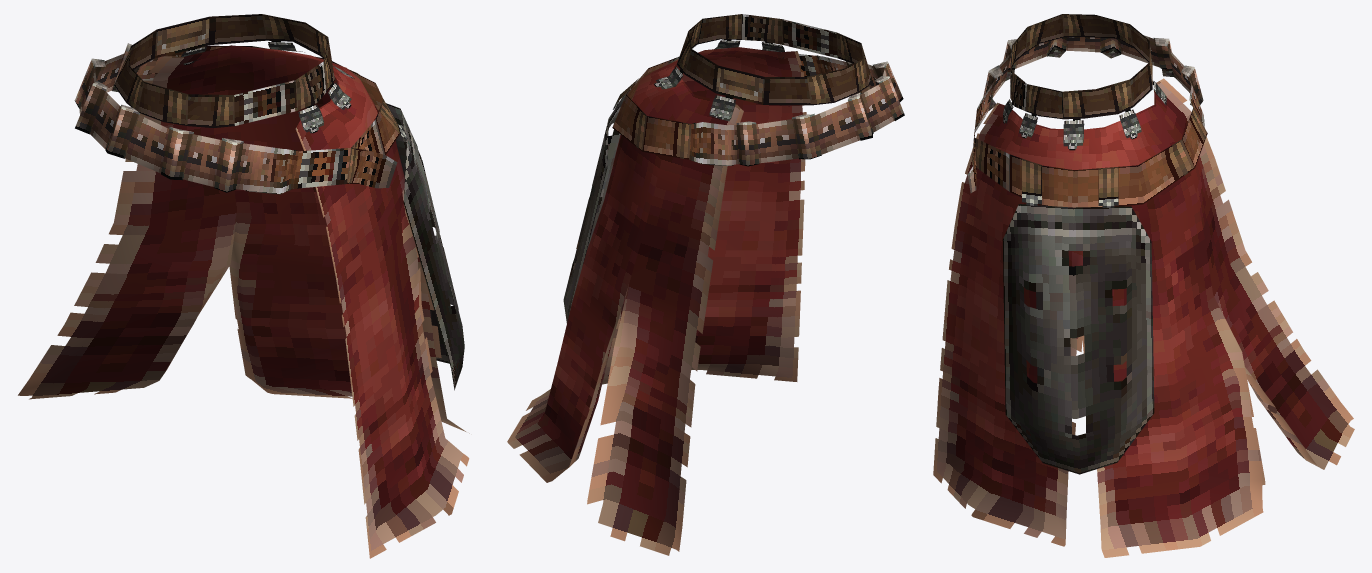
Rendered from m_waist070.obj.
The picture shows the model from 3 angles, left to right: view 1: azimuth 30°, elevation 25°; view 2: azimuth 150°, elevation 25°; view 3: azimuth 270°, elevation 25°; orthographic projection. The views are drawn at different scales.
Parts seen in each view (by area): view 1: mesh01, mesh00, mesh04, mesh02, mesh03; view 2: mesh01, mesh00, mesh04, mesh03, mesh02; view 3: mesh01, mesh02, mesh00, mesh03, mesh04, mesh05, mesh06.
Part boxes in pixels (bbox=[...]): mesh01: bbox=[18, 45, 469, 558]; mesh00: bbox=[114, 14, 354, 133]; mesh04: bbox=[74, 43, 298, 194]; mesh02: bbox=[386, 103, 464, 390]; mesh03: bbox=[186, 45, 399, 188]; mesh01: bbox=[507, 47, 806, 555]; mesh00: bbox=[654, 14, 871, 121]; mesh04: bbox=[689, 55, 904, 166]; mesh03: bbox=[612, 54, 819, 159]; mesh02: bbox=[563, 90, 629, 322]; mesh01: bbox=[933, 78, 1354, 557]; mesh02: bbox=[1002, 204, 1154, 474]; mesh00: bbox=[1003, 14, 1166, 150]; mesh03: bbox=[967, 107, 1207, 207]; mesh04: bbox=[975, 35, 1204, 132]; mesh05: bbox=[1022, 159, 1041, 206]; mesh06: bbox=[1098, 167, 1118, 207].
Size of the model in its own units: 68.24 by 75.95 by 73.18.
7 materials, 7 textured.
